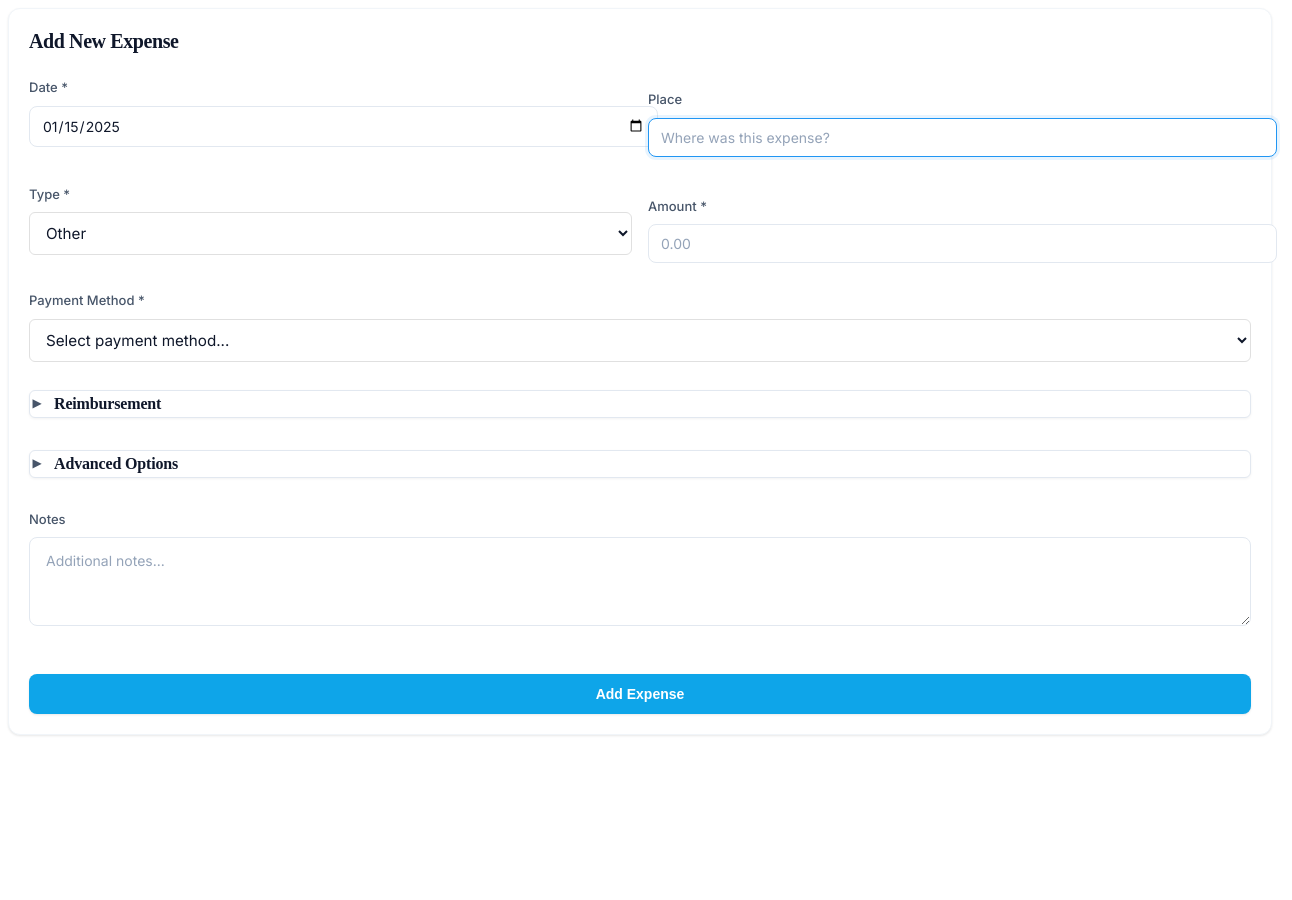
Test: ExpenseForm Integration Tests › Expense type switching › should show/hide sections when switching between medical and non-medical types
Expected: the dropdown labelled "Payment Method *" is shown, [29, 318, 1251, 362]
Note: Start with non-medical type - should see Reimbursement but not Insurance/People/Invoice
Step 1. Select "Groceries" in the dropdown with id "type" → (330, 234), box [29, 212, 632, 255]
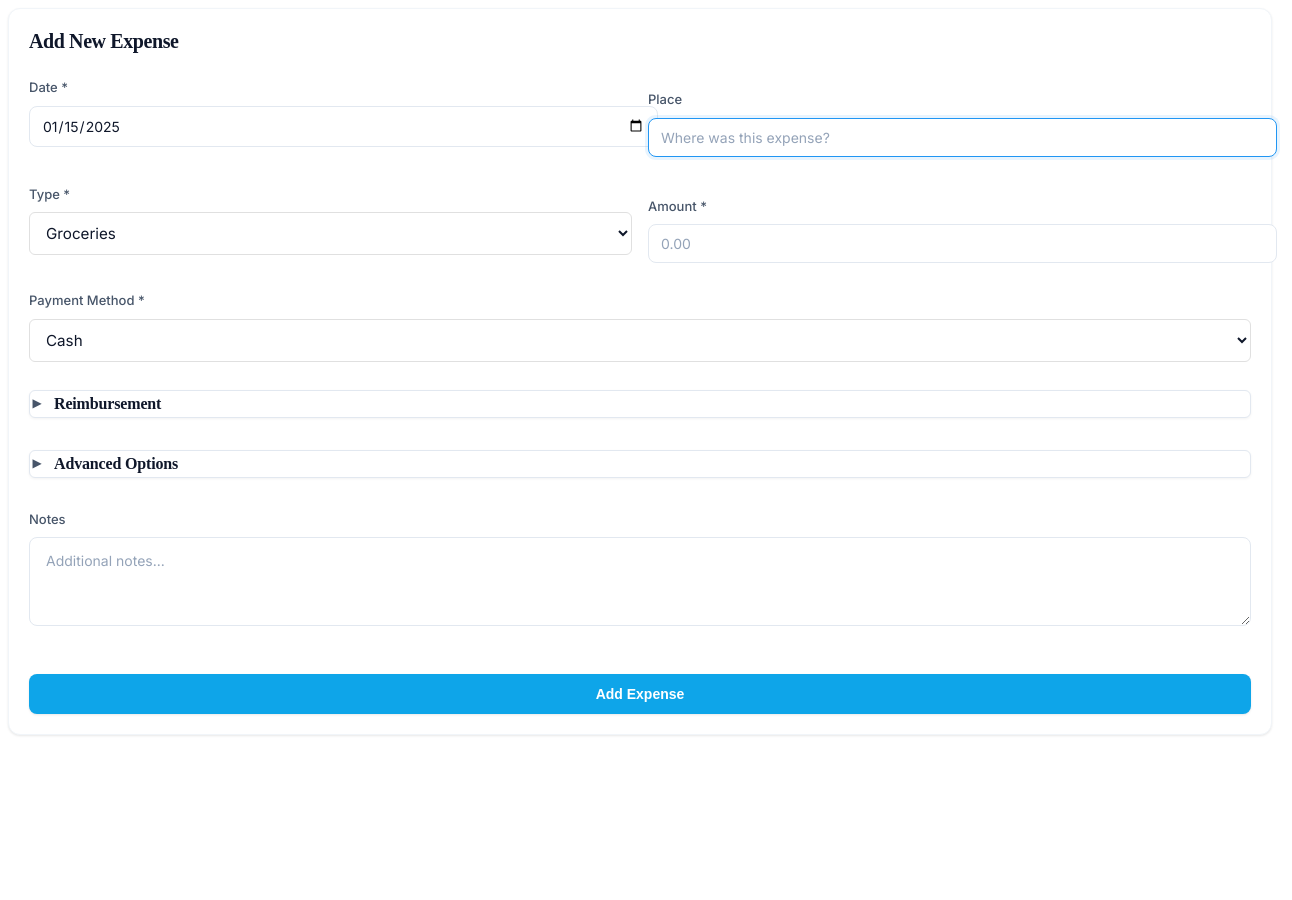
Expected: the button with class "collapsible-header" showing "▶ Reimbursement" is shown, [32, 394, 161, 412]
Note: Switch to medical - should see Insurance/People/Invoice but not Reimbursement
Step 2. Select "Tax - Medical" in the dropdown with id "type" → (330, 234), box [29, 212, 632, 255]
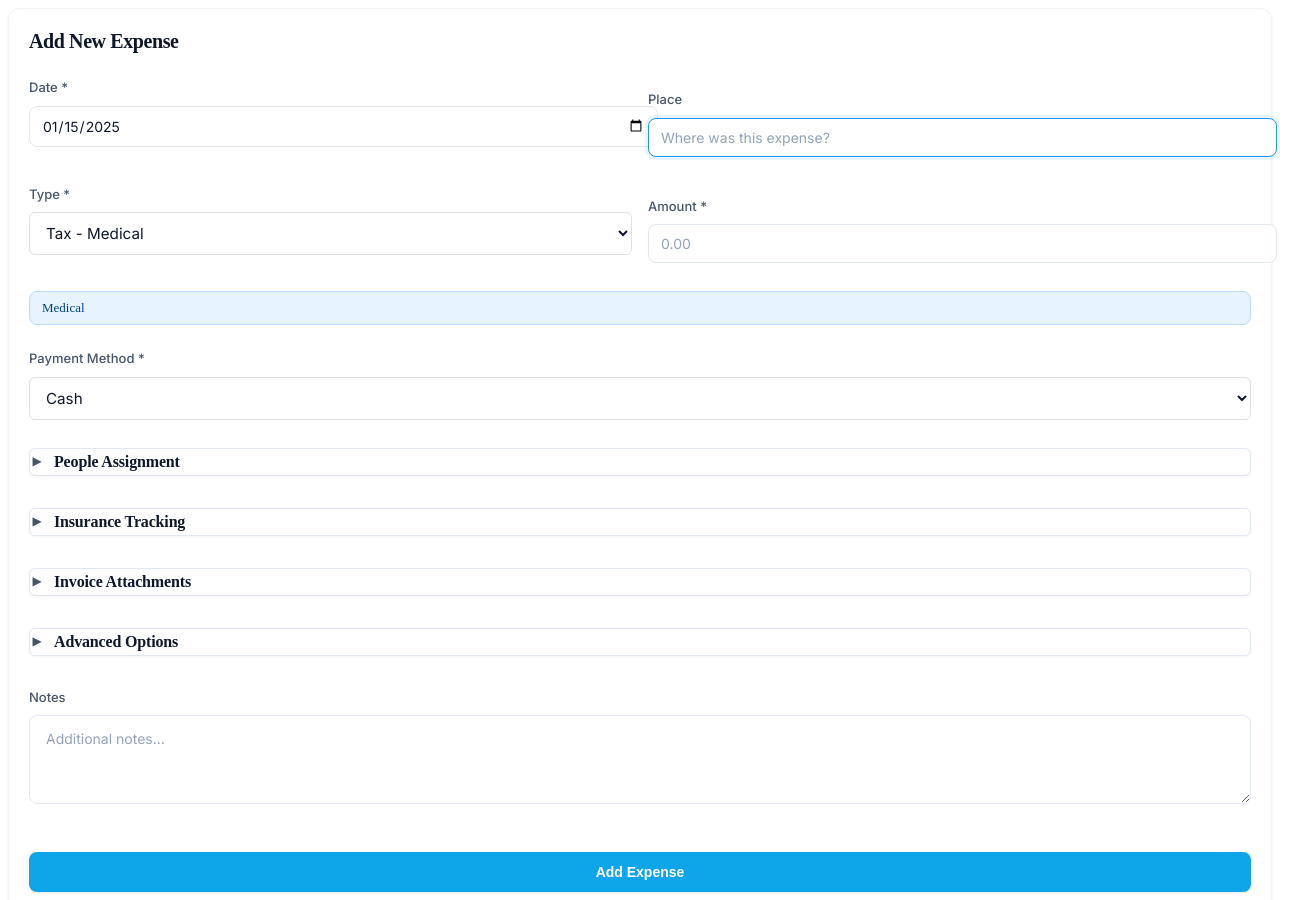
Result: the button with class "collapsible-header" showing "▶ Insurance Tracking" is shown at [32, 512, 185, 530]
Result: the button with class "collapsible-header" showing "▶ People Assignment" is shown at [32, 452, 180, 470]
Result: the button with class "collapsible-header" showing "▶ Invoice Attachments" is shown at [32, 572, 191, 590]
Note: Switch to donation - should see Invoice but not Insurance/People/Reimbursement
Step 3. Select "Tax - Donation" in the dropdown with id "type" → (330, 234), box [29, 212, 632, 255]
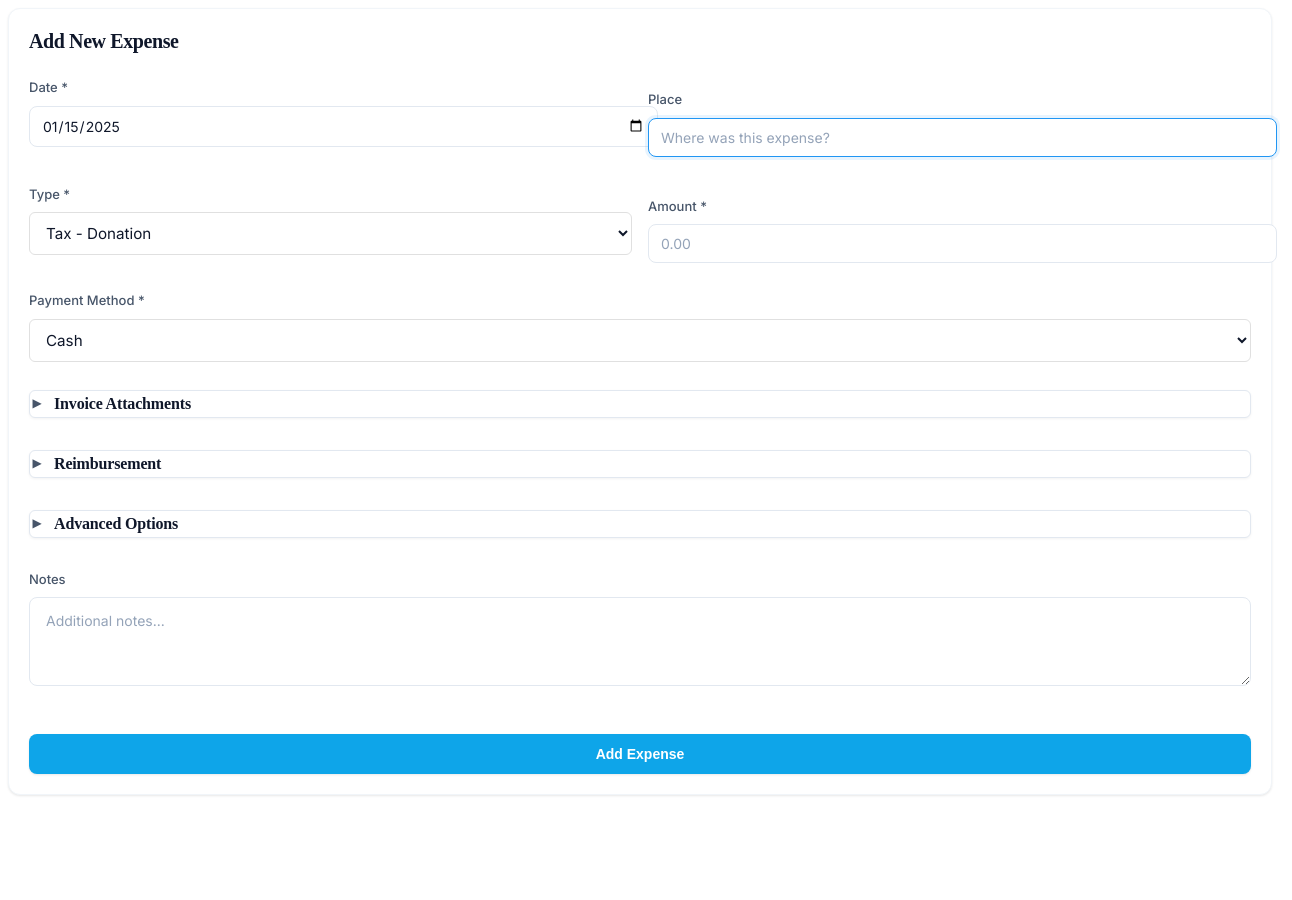
Result: the button with class "collapsible-header" showing "▶ Invoice Attachments" is shown at [32, 394, 191, 412]
Result: the button with class "collapsible-header" showing "▶ Reimbursement" is shown at [32, 454, 161, 472]
